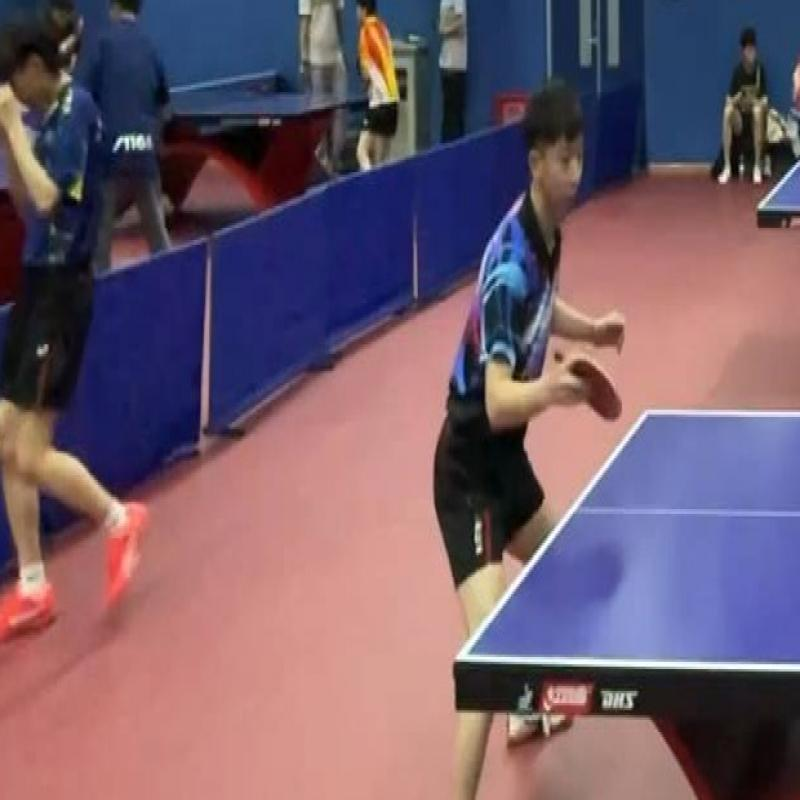bats: (547, 337, 625, 422)
